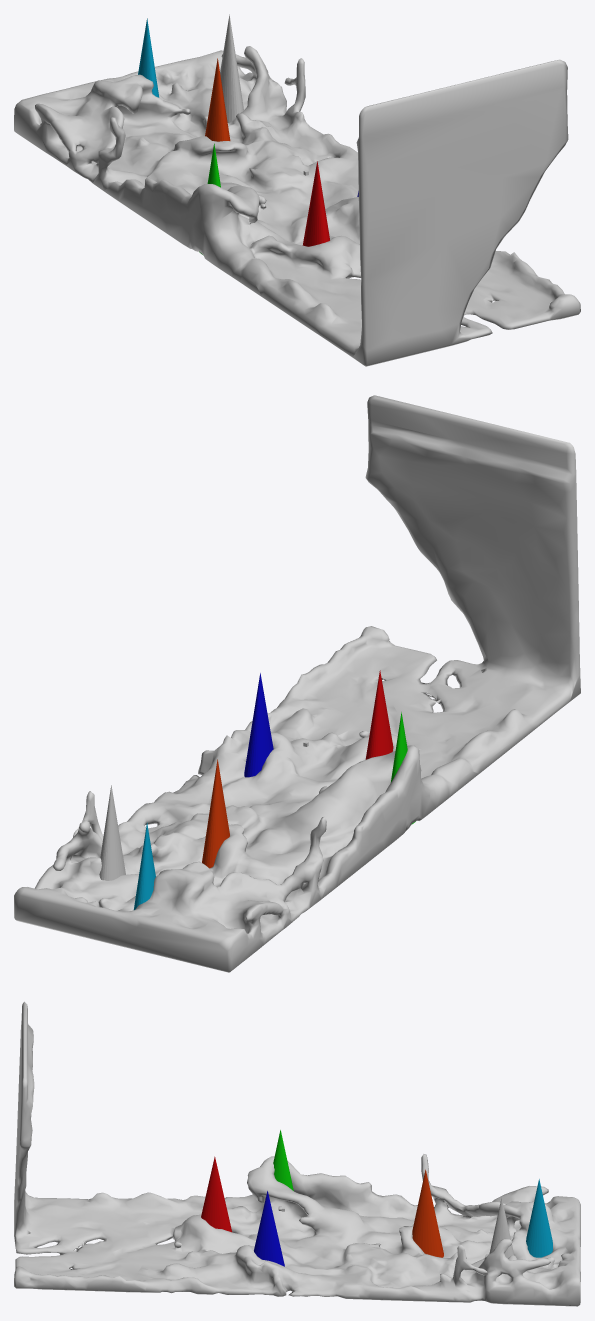
3 views of the same model, one above another, from view 1: azimuth 30°, elevation 25°; view 2: azimuth 150°, elevation 25°; view 3: azimuth 270°, elevation 25° (orthographic). The views are drawn at different scales.
Visible parts, largest first — view 1: Liquid_Domain, 円錐, 円錐.001, 円錐.004, 円錐.005; view 2: Liquid_Domain, 円錐.002, 円錐.004, 円錐, 円錐.001, 円錐.005; view 3: Liquid_Domain, 円錐.004, 円錐.005, 円錐.001, 円錐.002, 円錐.003, 円錐.
Boxes of the visible parts, x1,y1,x2,y2 form: Liquid_Domain: (14, 46, 580, 366); 円錐: (220, 14, 243, 123); 円錐.001: (302, 161, 329, 246); 円錐.004: (205, 58, 230, 141); 円錐.005: (138, 18, 159, 97); Liquid_Domain: (14, 395, 580, 972); 円錐.002: (244, 673, 273, 777); 円錐.004: (202, 759, 229, 868); 円錐: (99, 785, 125, 880); 円錐.001: (365, 670, 393, 759); 円錐.005: (133, 822, 155, 909); Liquid_Domain: (14, 1001, 580, 1306); 円錐.004: (412, 1169, 443, 1257); 円錐.005: (526, 1179, 552, 1257); 円錐.001: (201, 1156, 231, 1232); 円錐.002: (254, 1191, 284, 1266); 円錐.003: (273, 1130, 293, 1190); 円錐: (489, 1197, 514, 1258).
Size of the model in its own units: 129 by 158 by 361.
